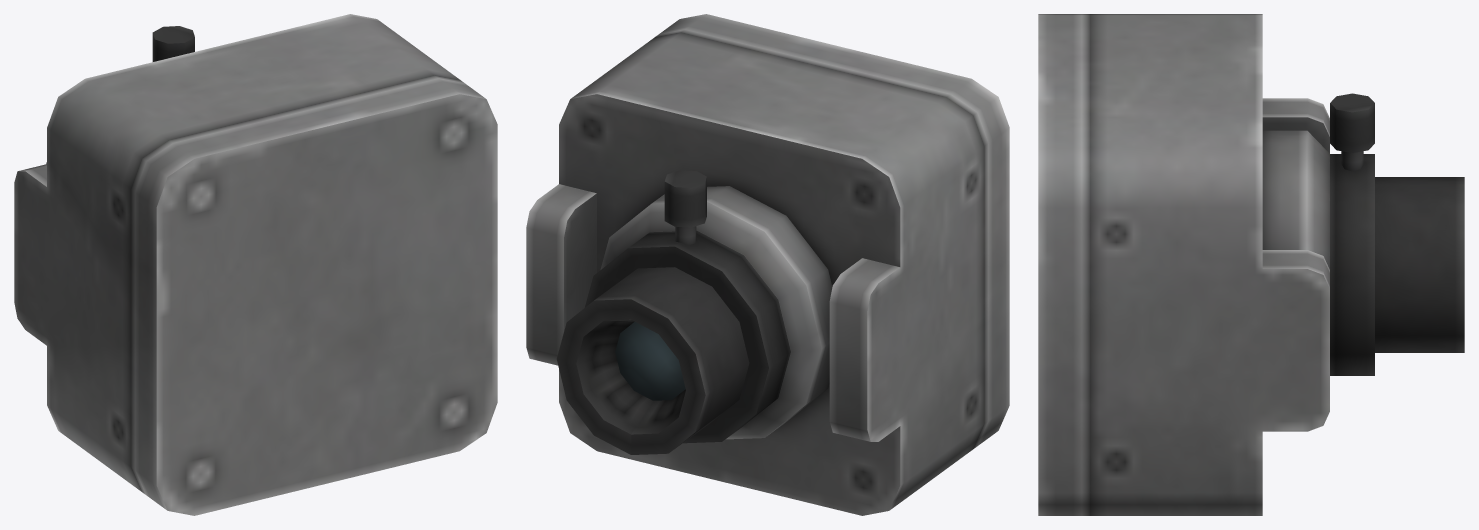
The model's file is neptune_camera.fbx.
3 views of the same model, side by side, from view 1: azimuth 30°, elevation 25°; view 2: azimuth 150°, elevation 25°; view 3: azimuth 270°, elevation 25° (orthographic). The views are drawn at different scales.
Visible parts, largest first — view 1: mesh; view 2: mesh, lense; view 3: mesh.
Part boxes in pixels (x1,y1,x2,y2): mesh: [14, 14, 497, 515]; mesh: [526, 14, 1009, 515]; lense: [615, 322, 685, 400]; mesh: [1038, 14, 1464, 515].
Size of the model in its own units: 0.225 by 0.225 by 0.2375.
1 material, 1 textured.
